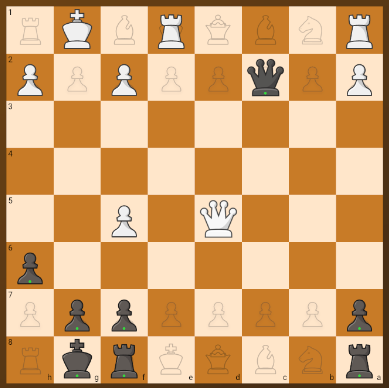bp: (341, 290, 381, 336), (57, 294, 97, 334), (104, 294, 143, 332), (11, 248, 49, 286)
bq: (243, 54, 289, 99)
br: (56, 337, 99, 381), (103, 340, 145, 380), (342, 340, 379, 381)
wk: (57, 7, 99, 53)
wp: (107, 199, 144, 239), (12, 60, 49, 99), (342, 58, 377, 99), (109, 63, 142, 98)
wq: (196, 196, 239, 238)
wr: (342, 8, 379, 50), (155, 10, 189, 52)
